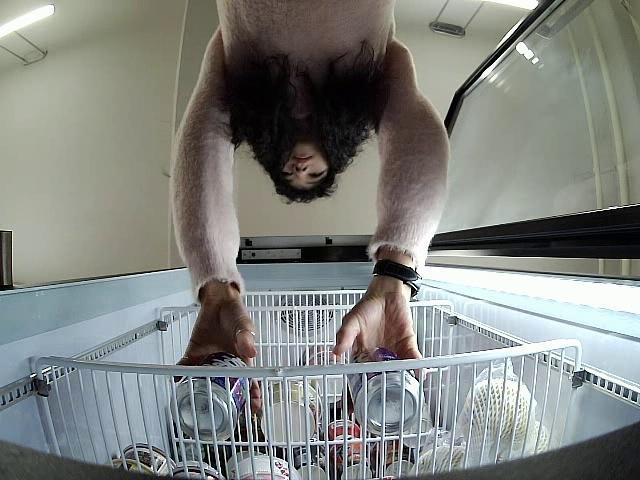14_welchsGrape: (170, 352, 254, 440), (348, 346, 426, 438)
